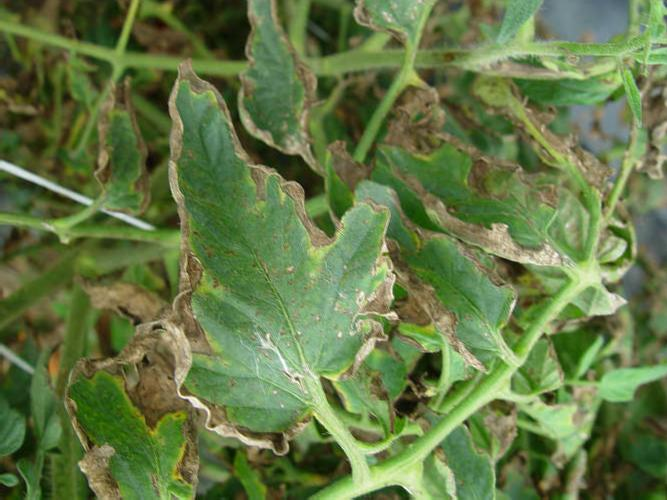Tomato leaf bacterial spot: (132, 59, 398, 483)
